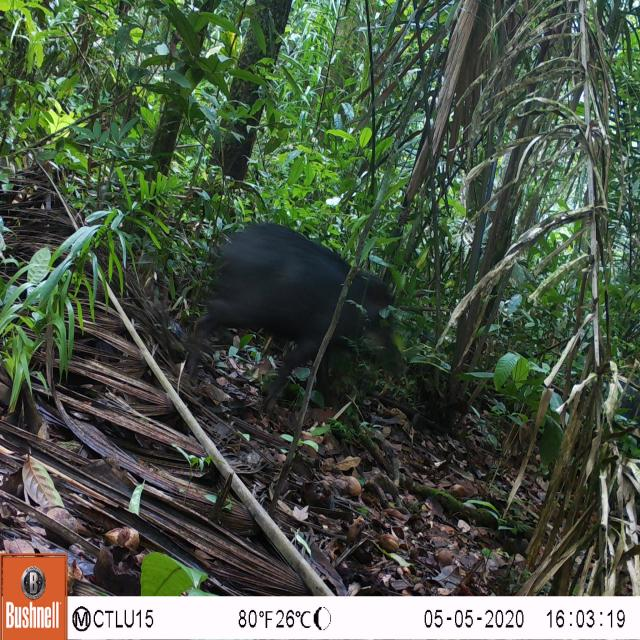White-lipped Peccary: (181, 214, 400, 392)
